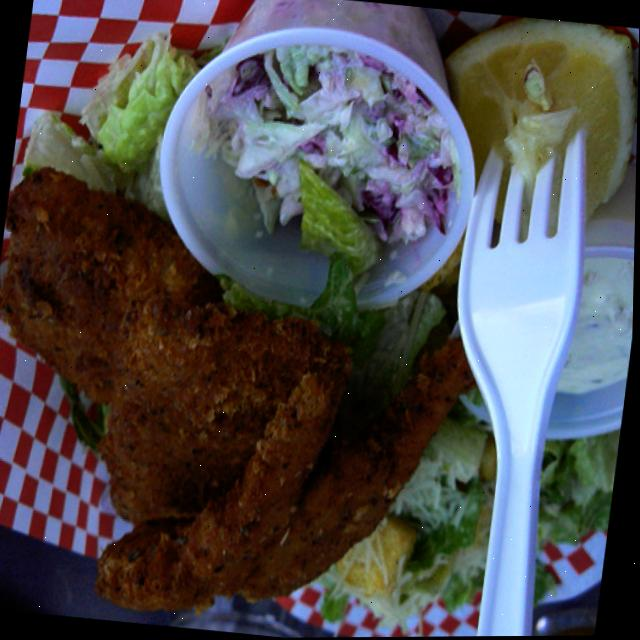炸货点心: (0, 177, 456, 640)
熟制海鲜: (0, 177, 456, 640)
